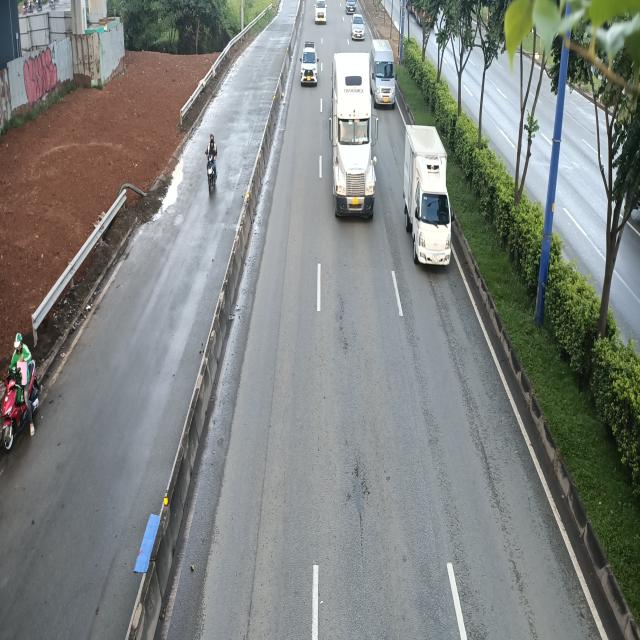car: (298, 41, 318, 87), (350, 15, 366, 42)
container: (331, 52, 379, 220)
truck: (403, 124, 454, 270)
van: (370, 38, 396, 109)
